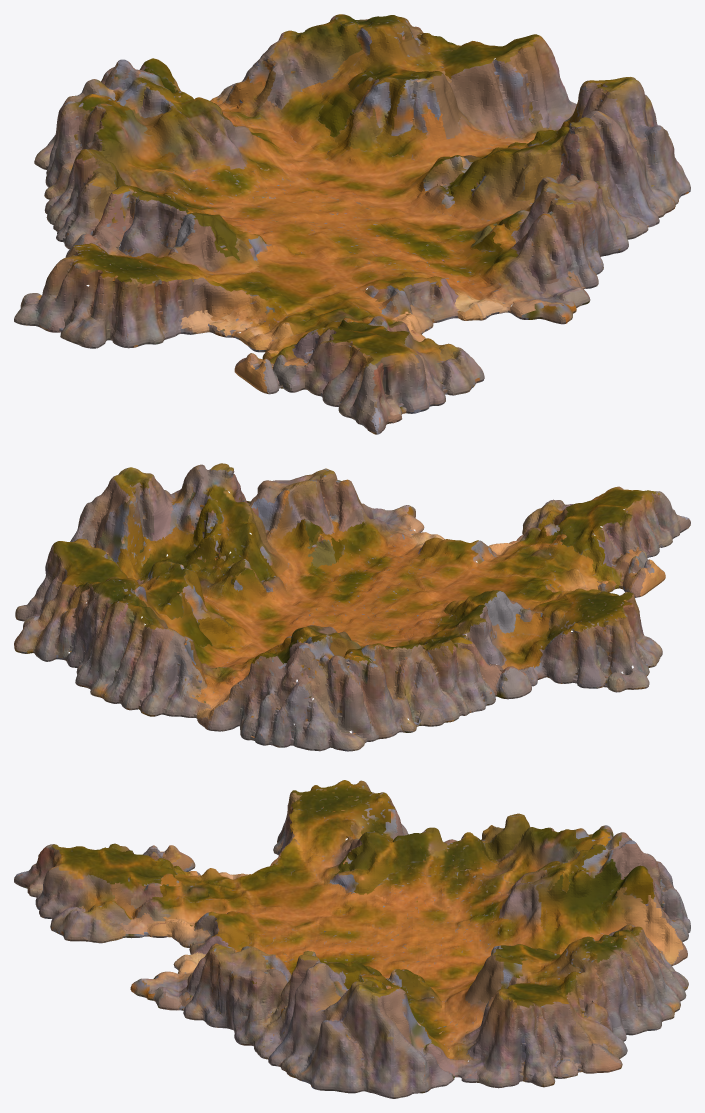
File: ilha_texturizada.glb
The picture shows the model from 3 angles, top to bottom: view 1: azimuth 30°, elevation 25°; view 2: azimuth 150°, elevation 25°; view 3: azimuth 270°, elevation 25°; orthographic projection. The views are drawn at different scales.
Visible parts, largest first — view 1: casatecnomago.obj; view 2: casatecnomago.obj; view 3: casatecnomago.obj.
Part boxes in pixels (x1,y1,x2,y2): casatecnomago.obj: (14, 14, 690, 434); casatecnomago.obj: (14, 463, 690, 751); casatecnomago.obj: (14, 780, 690, 1098).
Size of the model in its own units: 1.95 by 0.2871 by 1.97.
Materials: 1 (1 with a texture image).
